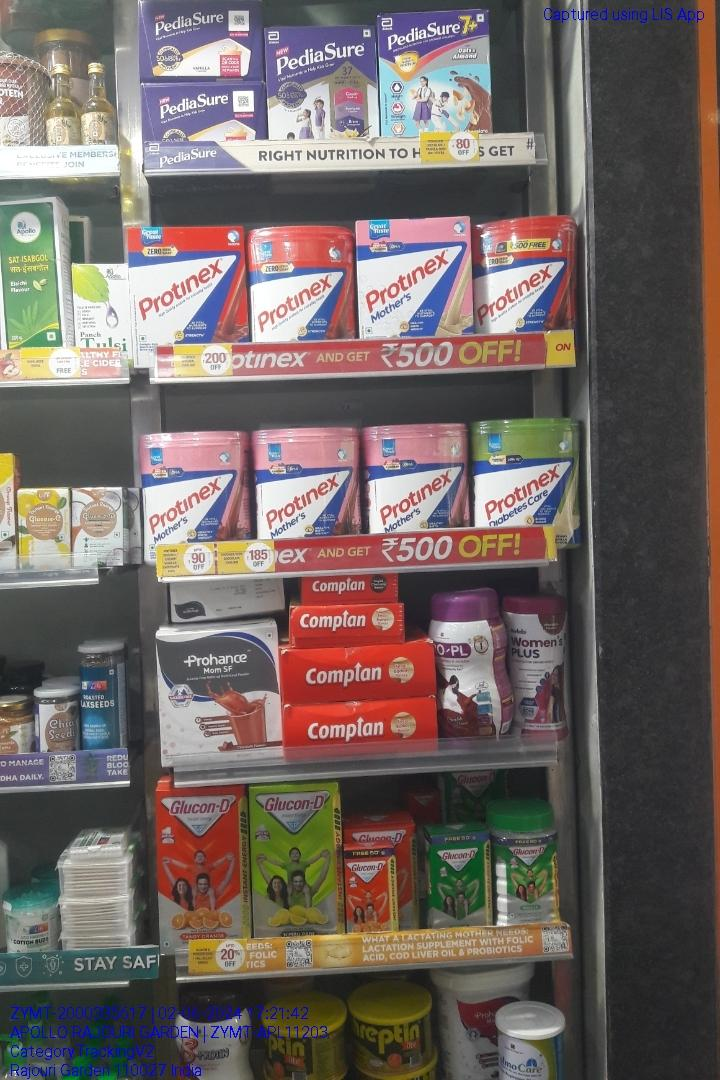PEDIASURE_7_PLUS_CHOCOLATE_400_G_PACK: (380, 16, 491, 132)
PROTINEX_CHOCOLATE_400_G_JAR: (251, 227, 352, 343), (474, 220, 573, 330)
